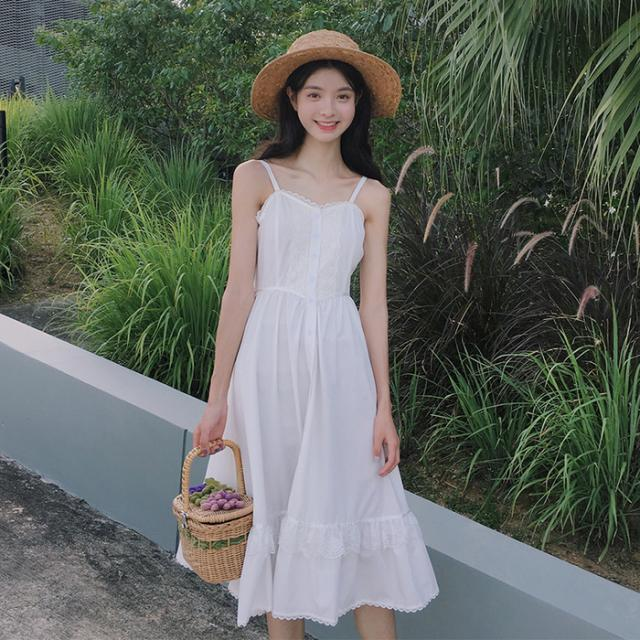clothes: (196, 152, 438, 620)
